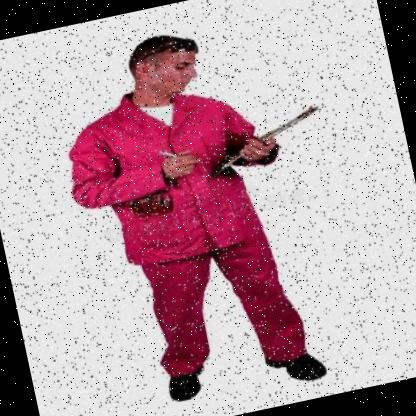bota: (257, 328, 331, 392), (159, 349, 212, 405)
